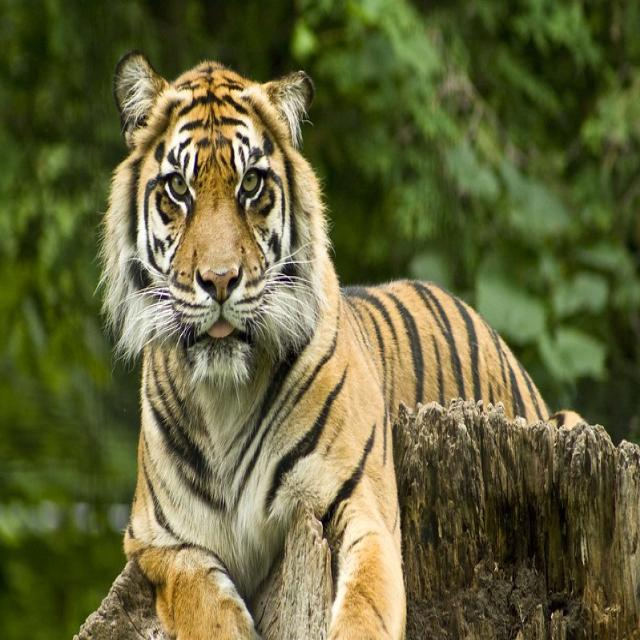Tiger: (88, 49, 427, 639)
